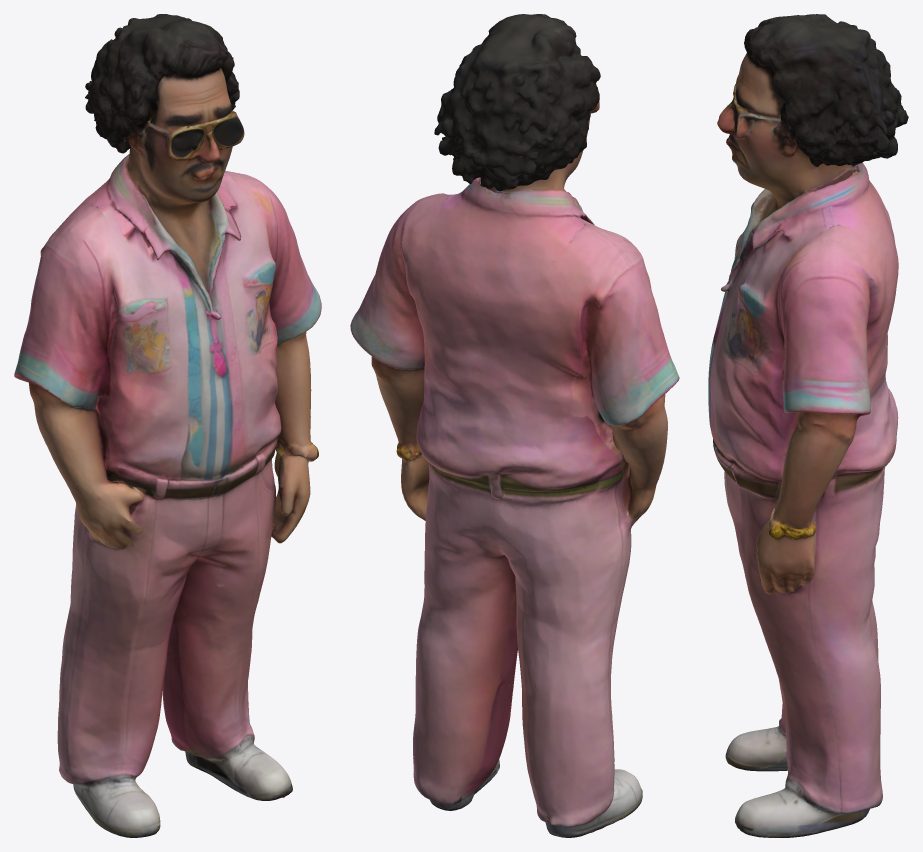
File: Pablo.glb
The picture shows the model from 3 angles, left to right: view 1: azimuth 30°, elevation 25°; view 2: azimuth 150°, elevation 25°; view 3: azimuth 270°, elevation 25°; orthographic projection.
Visible parts, largest first — view 1: Mesh_0.001; view 2: Mesh_0.001; view 3: Mesh_0.001.
Boxes of the visible parts, x1,y1,x2,y2 form: Mesh_0.001: (14, 14, 321, 837); Mesh_0.001: (350, 14, 679, 837); Mesh_0.001: (708, 14, 908, 837).
Bounding box in the file's own units: 0.8148 × 2 × 0.4693.
1 material, 1 textured.
